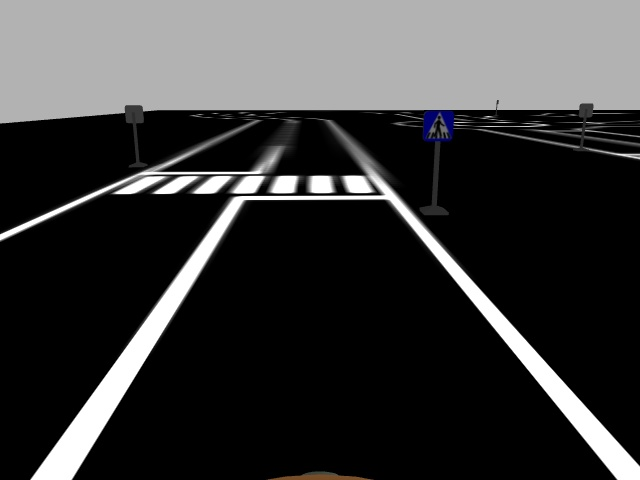crosswalk: (421, 108, 456, 145)
